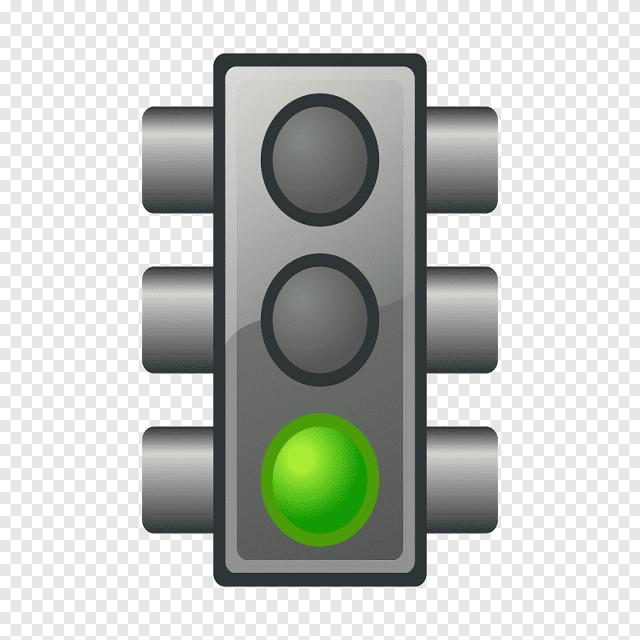green: (258, 412, 376, 540)
